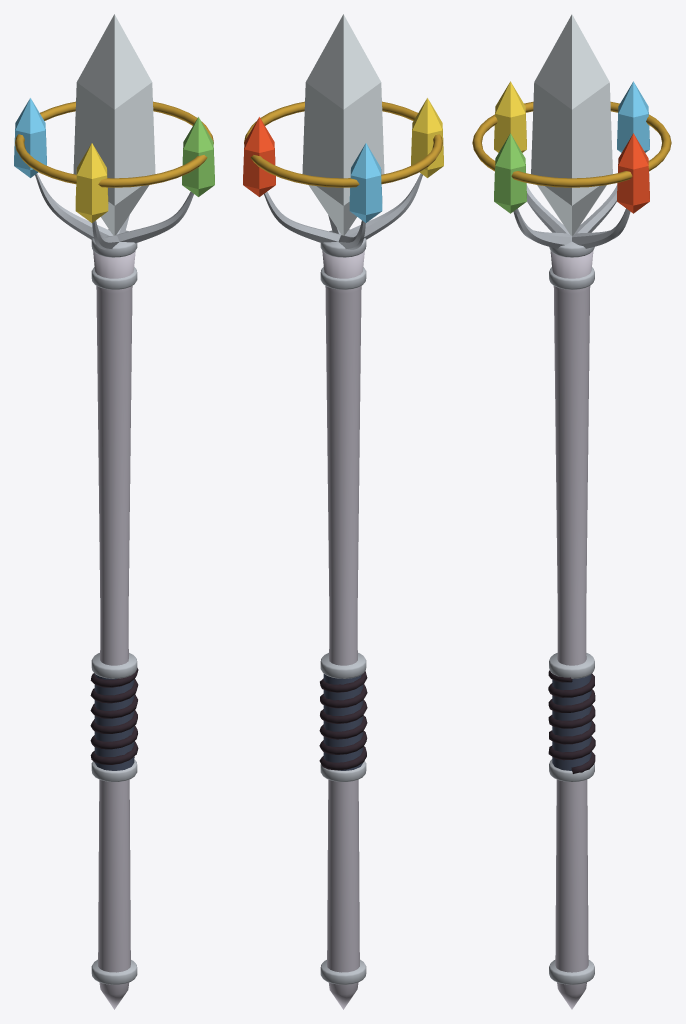
The model's file is staff_prism.fbx.
3 views of the same model, side by side, from view 1: azimuth 30°, elevation 25°; view 2: azimuth 150°, elevation 25°; view 3: azimuth 270°, elevation 25° (orthographic).
Visible parts, largest first — view 1: staff_prism; view 2: staff_prism; view 3: staff_prism.
Boxes of the visible parts, x1,y1,x2,y2 form: staff_prism: (14, 14, 214, 1009); staff_prism: (243, 14, 443, 1009); staff_prism: (472, 14, 671, 1009).
Bounding box in the file's own units: 0.252 × 1.39 × 0.252.
